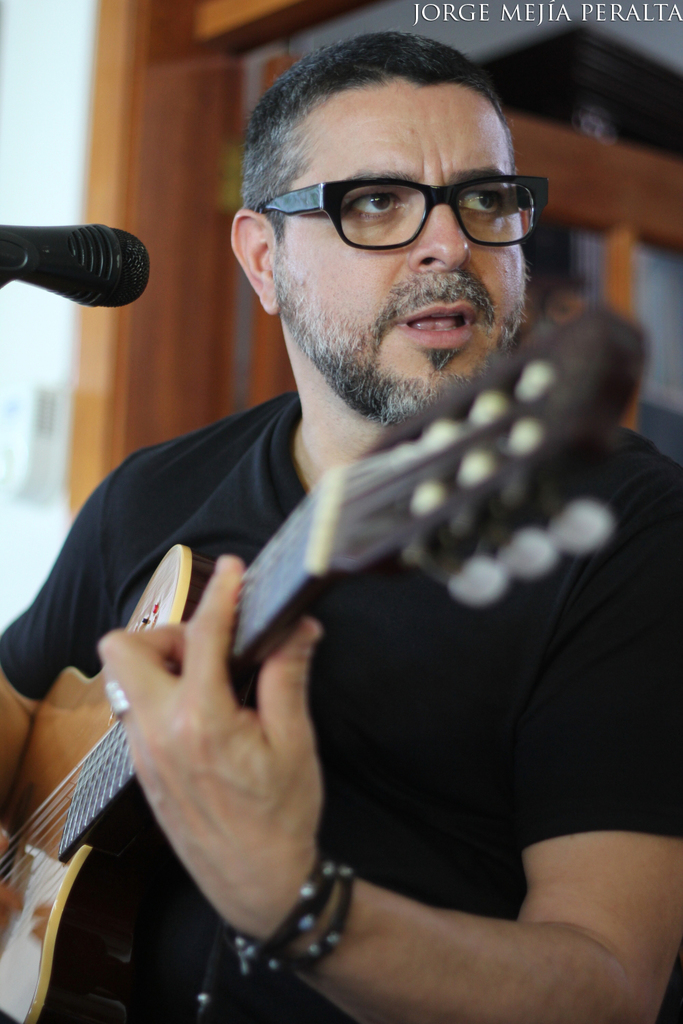Human_hand: (81, 590, 351, 961)
